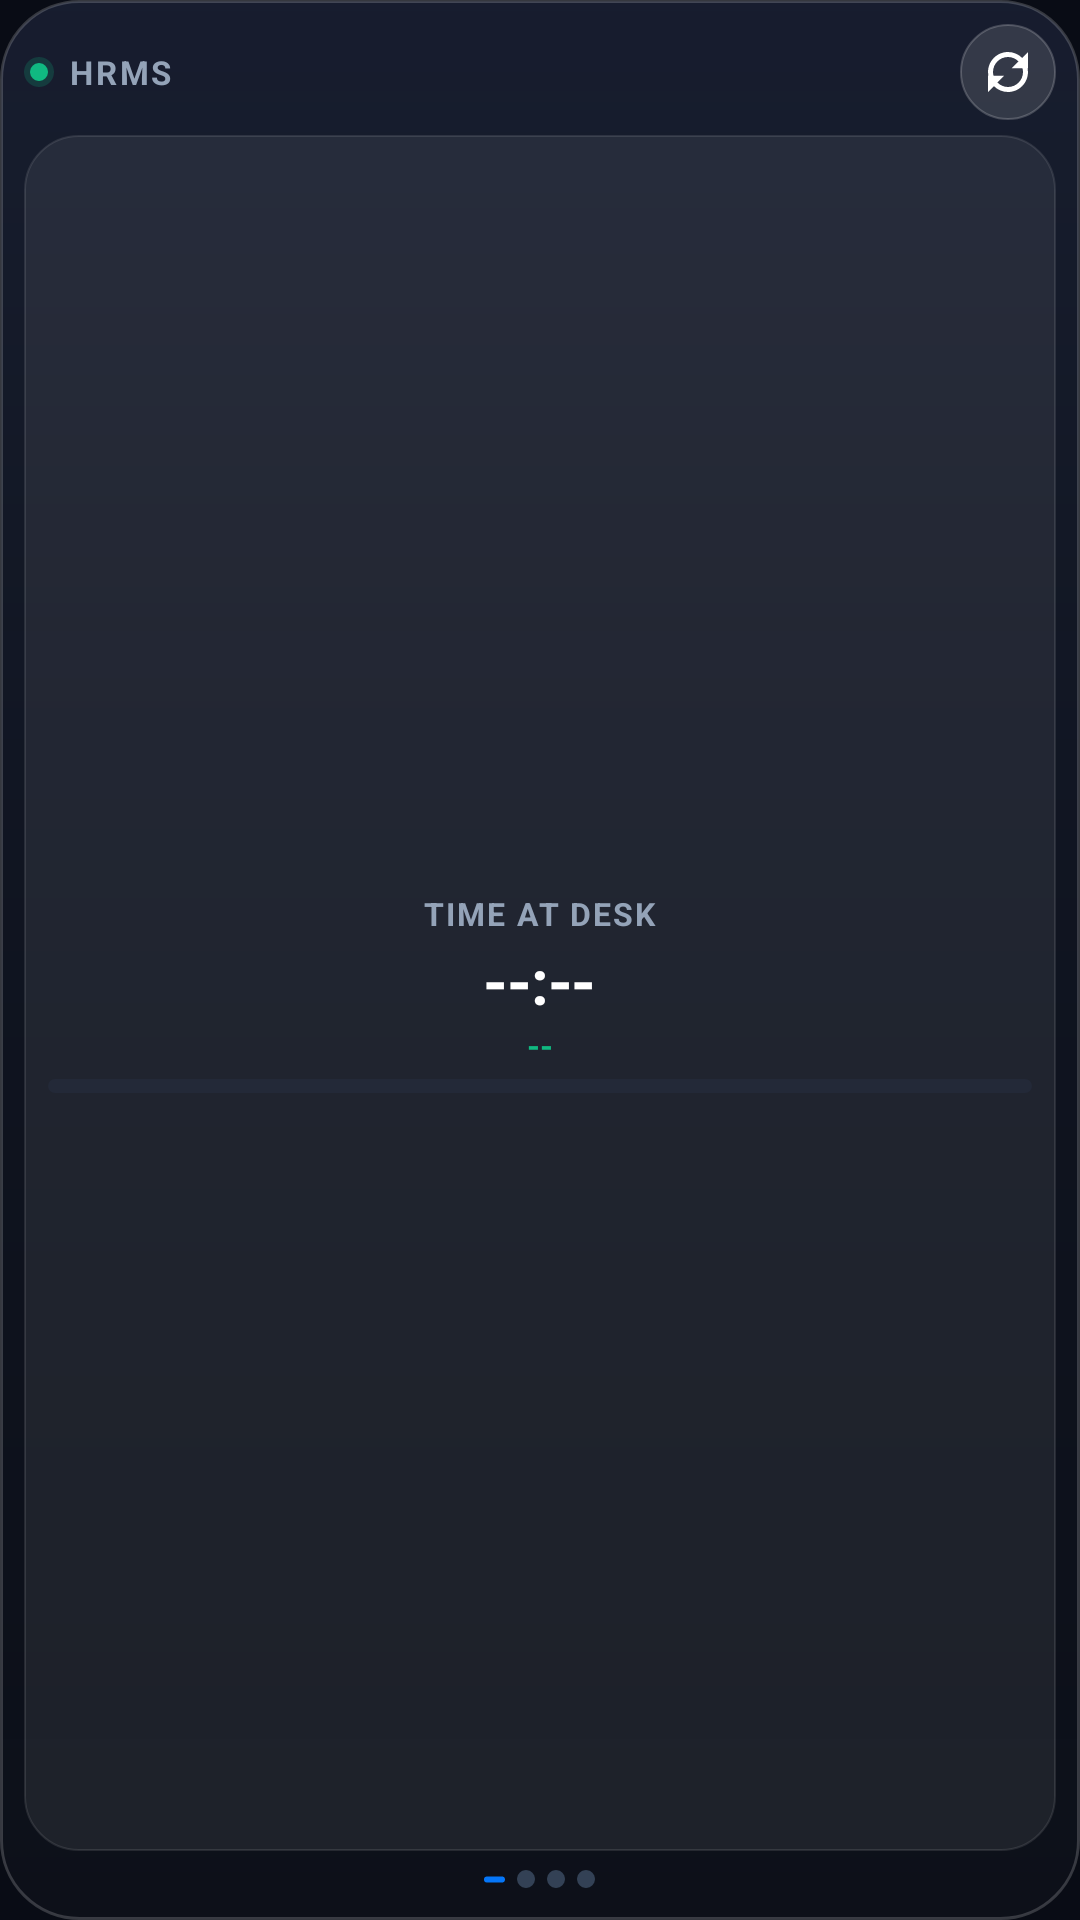

Screen size 1080 x 1920. Icon name, then its box in pixels as (x1, y1, x2, y2):
Live Status Beacon: (24, 57, 54, 87)
Refresh attendance stats: (960, 24, 1056, 120)
